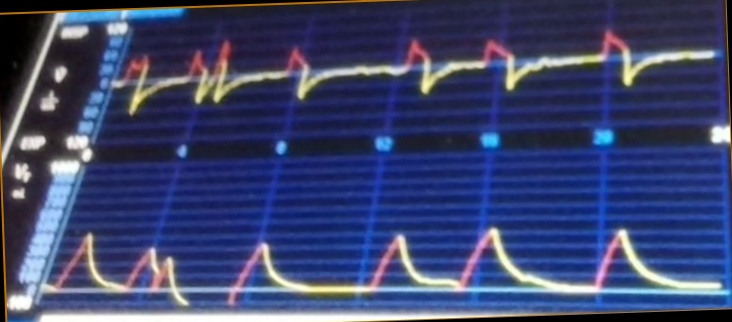Double_Triggering Flow: (110, 32, 703, 116)
Double_Triggering Volume: (51, 229, 680, 308)
